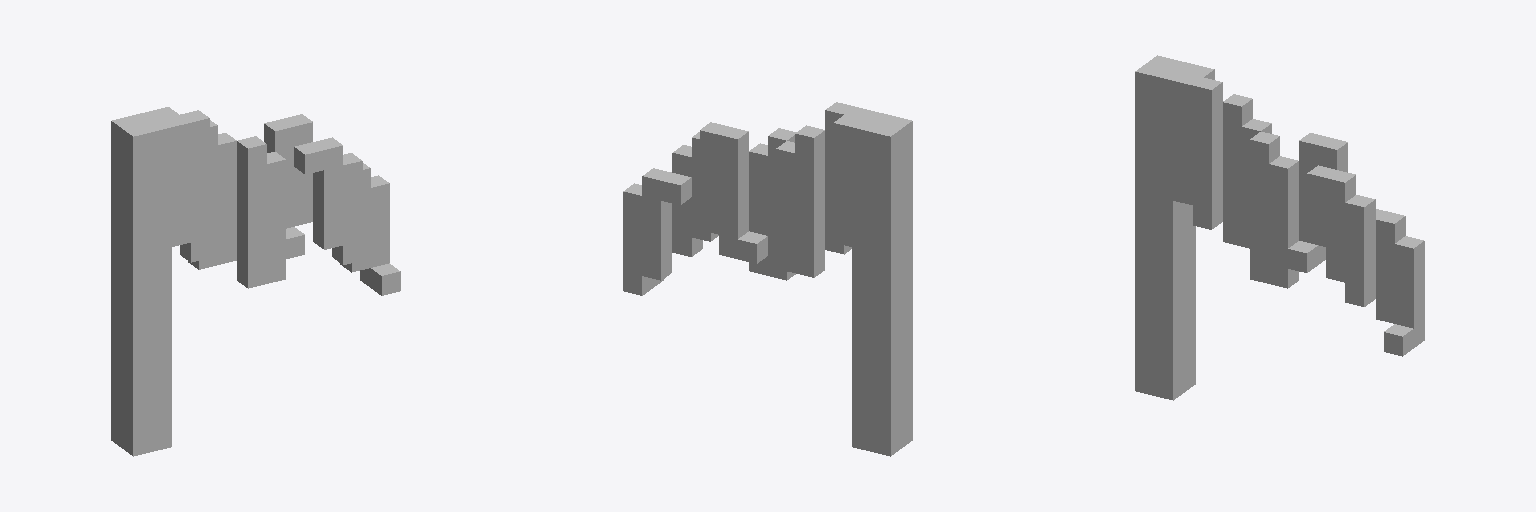
File: flag.obj
3 views of the same model, side by side, from view 1: azimuth 30°, elevation 25°; view 2: azimuth 150°, elevation 25°; view 3: azimuth 330°, elevation 25° (orthographic).
Visible parts, largest first — view 1: flag; view 2: flag; view 3: flag.
Part boxes in pixels (left/top/right/bottom): flag: left=111, top=107, right=400, bottom=456; flag: left=623, top=102, right=912, bottom=456; flag: left=1135, top=55, right=1424, bottom=400.
Bounding box in the file's own units: 14 × 16 × 2.